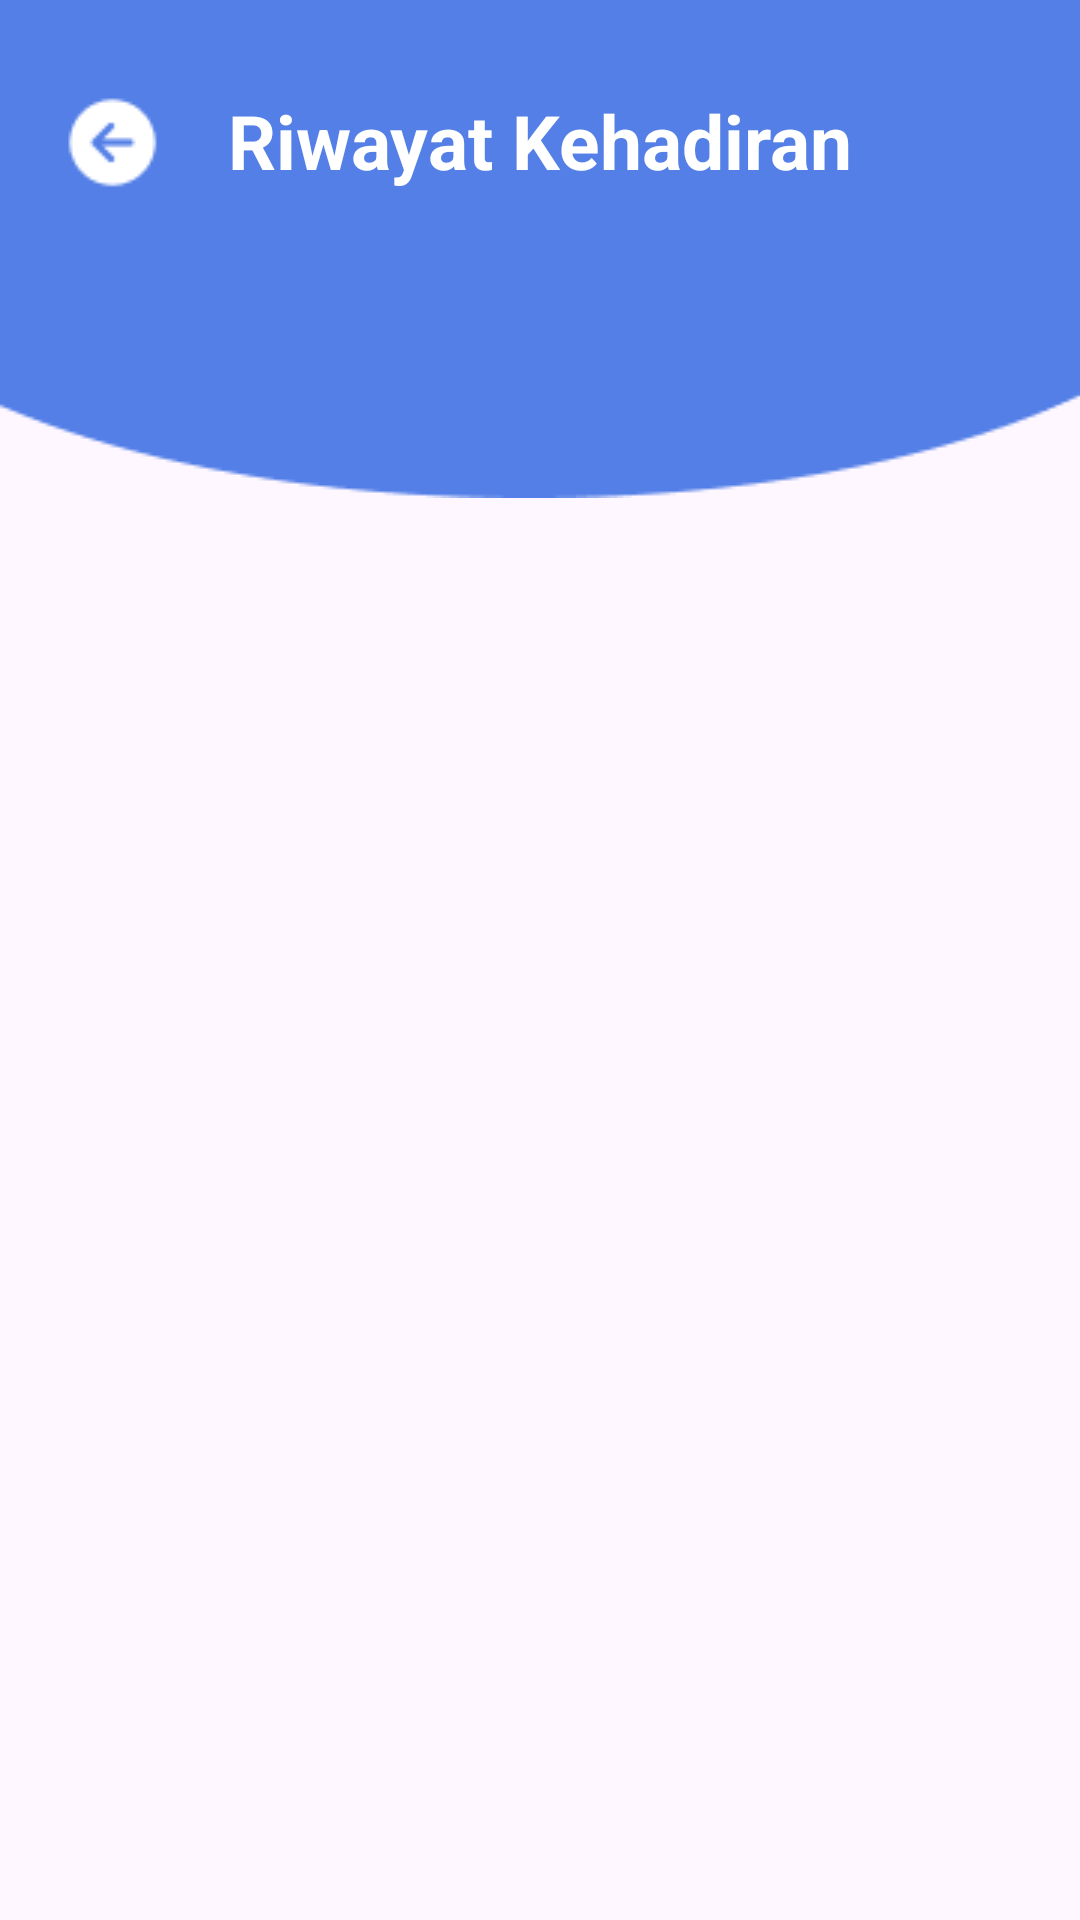

Icon bounding boxes for this 1080px×1920px phone screenshot, format (x1, y1, x2, y2):
arrow back: (68, 98, 157, 187)
